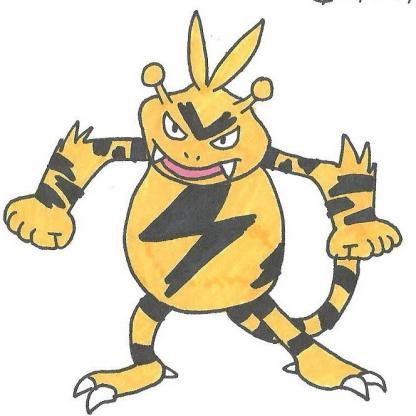Electabuzz: (1, 1, 416, 416), (43, 1, 416, 416)
